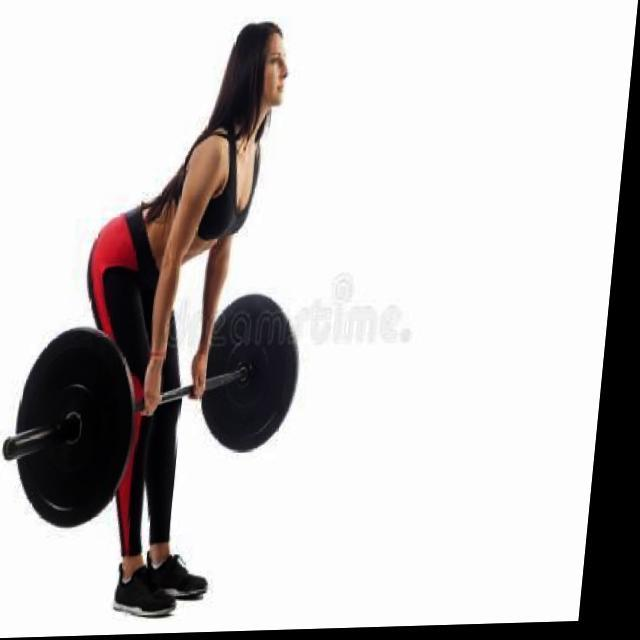barbell: (1, 315, 155, 537)
